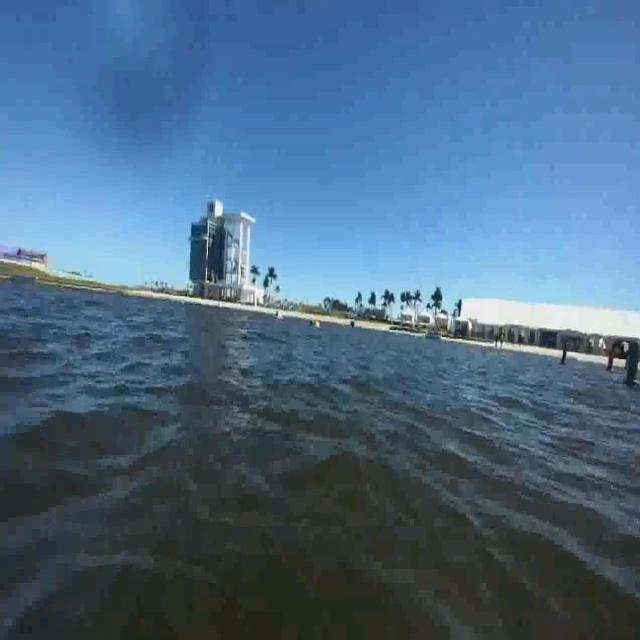green-column-buoy: (622, 338, 640, 388), (560, 340, 570, 367)
red-column-buoy: (604, 343, 617, 374)
yellow-buoy: (315, 319, 320, 329)
